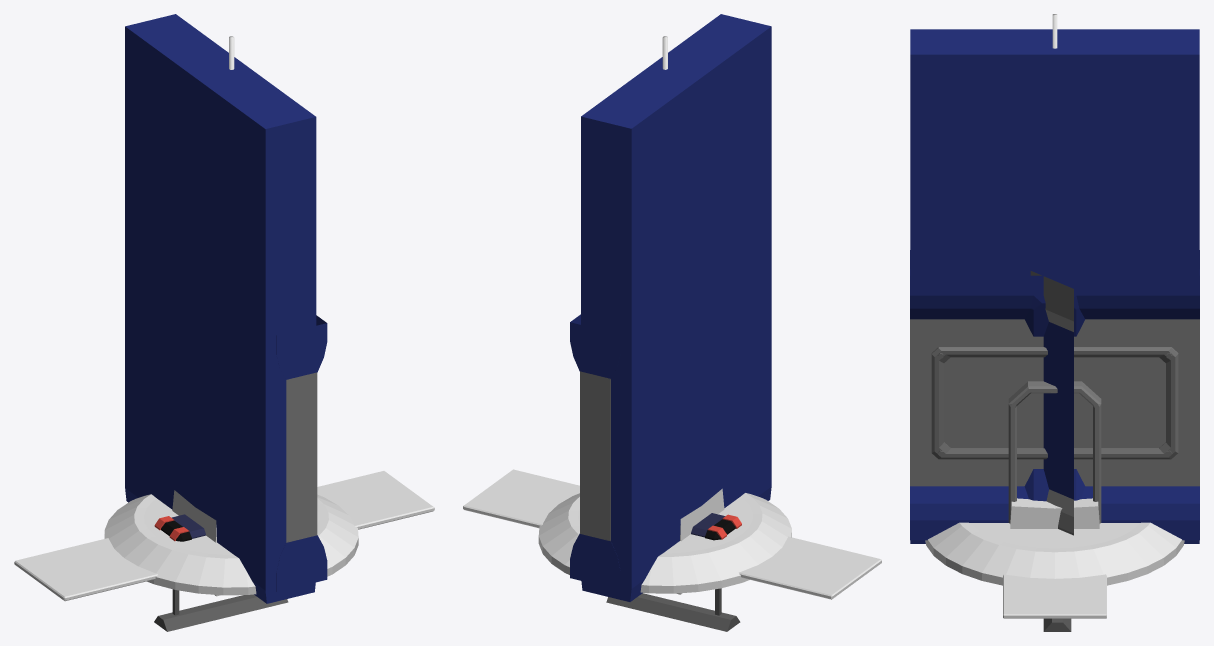
The model's file is Parts.fbx.
3 renders of one model, left to right at view 1: azimuth 30°, elevation 25°; view 2: azimuth 150°, elevation 25°; view 3: azimuth 270°, elevation 25°, orthographic. The views are drawn at different scales.
Visible parts, largest first — view 1: WallHeight, Vent_Circle, Table, Wall_Glass, Wall_Door, Lamp, Wall, BoxBig, Vent_AllSides; view 2: WallHeight, Vent_Circle, Table, Wall_Glass, Wall_Door, Lamp, BoxBig, Wall, Vent_AllSides; view 3: WallHeight, Wall_Glass, Wall, Wall_Door, Vent_Circle, Wall_Corner, Table, Vent_AllSides, Vent.
Boxes of the visible parts, x1=… form: WallHeight: x1=125, y1=14, x2=316, y2=603; Vent_Circle: x1=104, y1=494, x2=358, y2=595; Table: x1=14, y1=471, x2=434, y2=601; Wall_Glass: x1=276, y1=316, x2=327, y2=587; Wall_Door: x1=276, y1=316, x2=327, y2=591; Lamp: x1=154, y1=589, x2=288, y2=631; Wall: x1=276, y1=315, x2=327, y2=579; BoxBig: x1=154, y1=514, x2=205, y2=541; Vent_AllSides: x1=172, y1=490, x2=217, y2=596; WallHeight: x1=581, y1=14, x2=771, y2=601; Vent_Circle: x1=538, y1=493, x2=791, y2=593; Table: x1=463, y1=469, x2=881, y2=599; Wall_Glass: x1=570, y1=315, x2=620, y2=588; Wall_Door: x1=570, y1=315, x2=620, y2=590; Lamp: x1=606, y1=588, x2=740, y2=631; BoxBig: x1=691, y1=513, x2=741, y2=540; Wall: x1=570, y1=314, x2=620, y2=585; Vent_AllSides: x1=678, y1=488, x2=724, y2=594; WallHeight: x1=910, y1=29, x2=1199, y2=543; Wall_Glass: x1=910, y1=275, x2=1199, y2=539; Wall: x1=910, y1=250, x2=1199, y2=539; Wall_Door: x1=910, y1=251, x2=1199, y2=540; Vent_Circle: x1=925, y1=522, x2=1184, y2=585; Wall_Corner: x1=1030, y1=271, x2=1073, y2=535; Table: x1=1003, y1=574, x2=1106, y2=618; Vent_AllSides: x1=1010, y1=506, x2=1099, y2=528; Vent: x1=1010, y1=498, x2=1099, y2=523.
Size of the model in its own units: 1021 by 1510 by 671.
